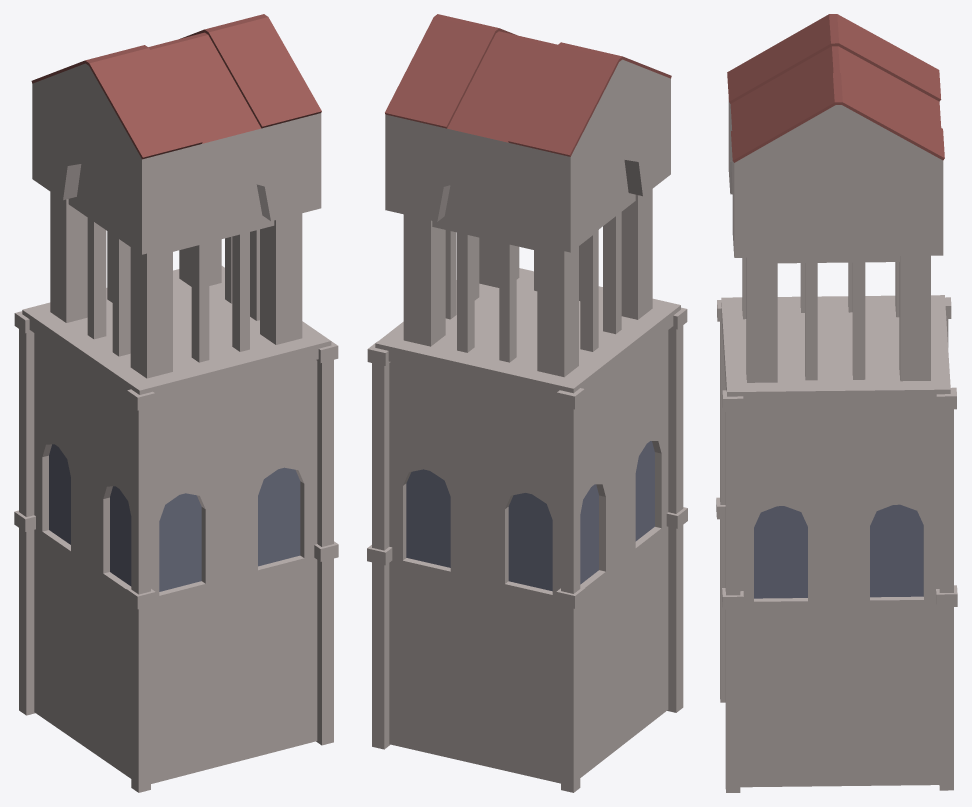
File: building_4.glb
3 renders of one model, left to right at view 1: azimuth 30°, elevation 25°; view 2: azimuth 150°, elevation 25°; view 3: azimuth 270°, elevation 25°, orthographic.
Visible parts, largest first — view 1: Cube.1083; view 2: Cube.1083; view 3: Cube.1083.
Boxes of the visible parts, bbox=[...] form: Cube.1083: bbox=[14, 14, 338, 792]; Cube.1083: bbox=[367, 14, 687, 792]; Cube.1083: bbox=[716, 14, 957, 792].
Size of the model in its own units: 0.0787 by 0.2465 by 0.0786.
